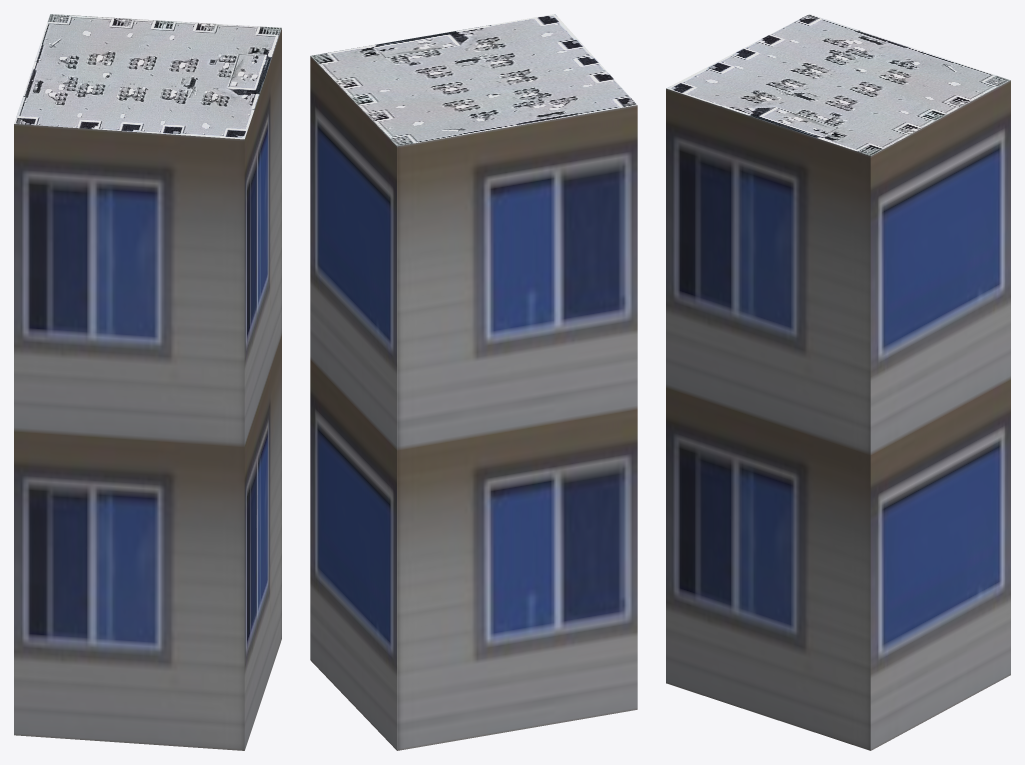
File: ResTex__2117.fbx
The picture shows the model from 3 angles, left to right: view 1: azimuth 30°, elevation 25°; view 2: azimuth 150°, elevation 25°; view 3: azimuth 270°, elevation 25°; orthographic projection. The views are drawn at different scales.
Parts seen in each view (by area): view 1: CityEngineMaterial_23_m, CityEngineMaterial_4_m; view 2: CityEngineMaterial_23_m, CityEngineMaterial_4_m; view 3: CityEngineMaterial_23_m, CityEngineMaterial_4_m.
Boxes of the visible parts, x1,y1,x2,y2 form: CityEngineMaterial_23_m: [14, 28, 281, 750]; CityEngineMaterial_4_m: [14, 14, 281, 139]; CityEngineMaterial_23_m: [310, 56, 637, 750]; CityEngineMaterial_4_m: [310, 14, 637, 146]; CityEngineMaterial_23_m: [666, 80, 1010, 750]; CityEngineMaterial_4_m: [666, 14, 1010, 155].
Size of the model in its own units: 3.07 by 6 by 3.15.
2 materials, 2 textured.
